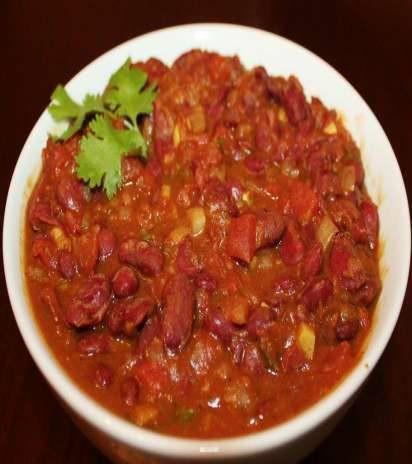RajmaCurry: (25, 44, 379, 440)
